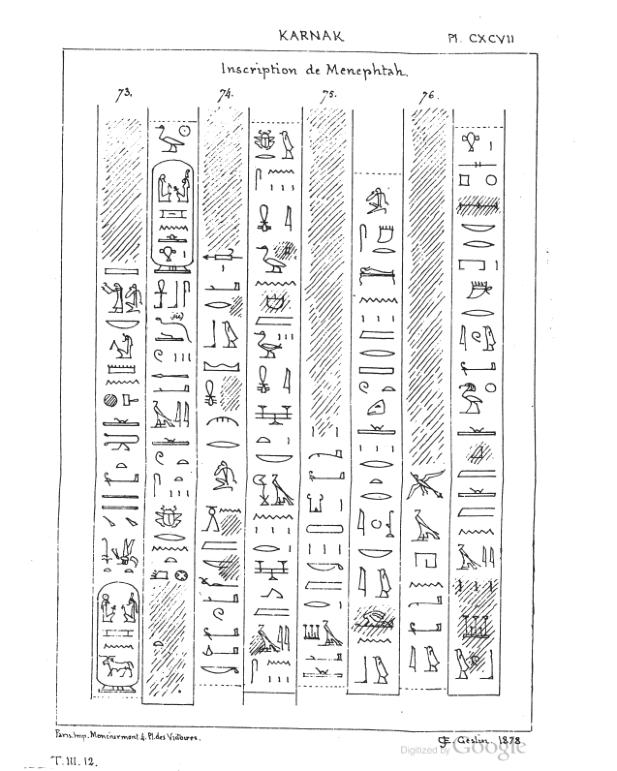circle: (94, 581, 141, 695), (150, 159, 195, 277)
